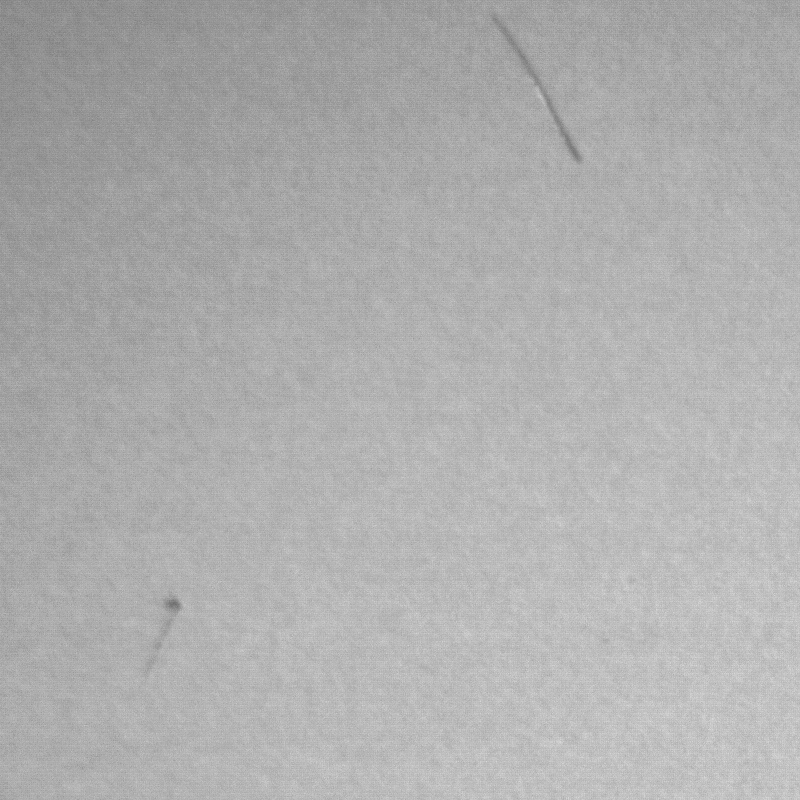defect: (489, 16, 586, 166), (140, 595, 175, 689)
